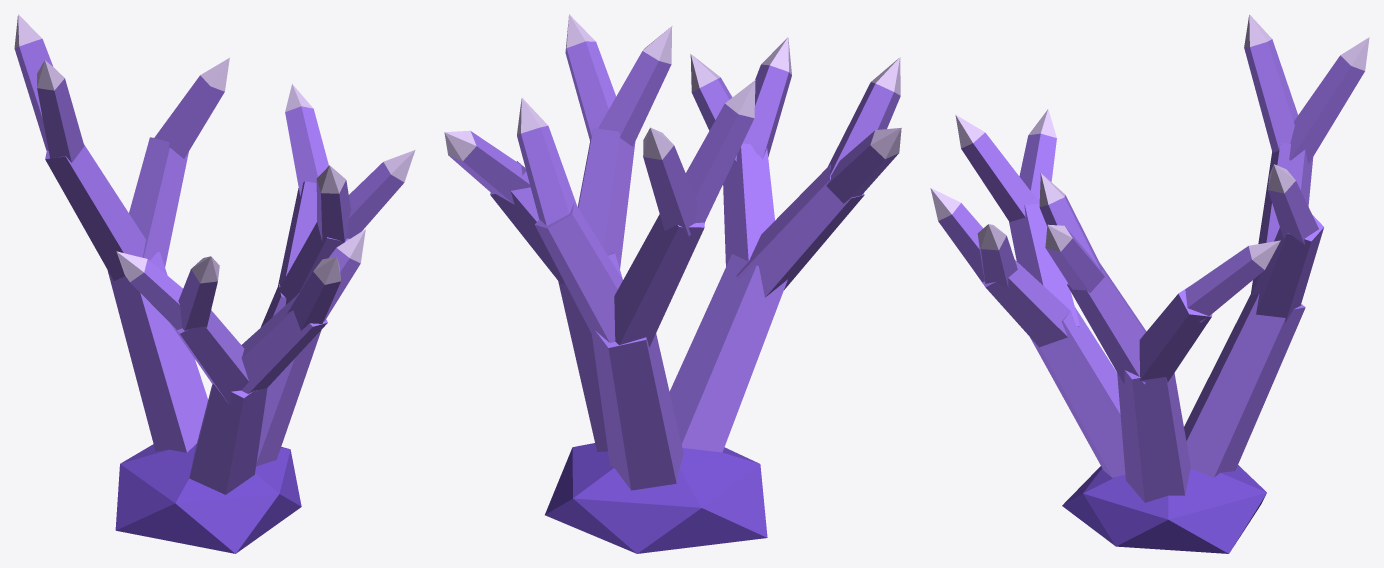
File: coral_branch_purple.fbx
3 renders of one model, left to right at view 1: azimuth 30°, elevation 25°; view 2: azimuth 150°, elevation 25°; view 3: azimuth 270°, elevation 25°, orthographic. The views are drawn at different scales.
Visible parts, largest first — view 1: coral_branch_purple; view 2: coral_branch_purple; view 3: coral_branch_purple.
Part boxes in pixels (x1,y1,x2,y2): coral_branch_purple: [14, 14, 415, 553]; coral_branch_purple: [444, 14, 901, 553]; coral_branch_purple: [930, 14, 1369, 553].
Bounding box in the file's own units: 407 × 609 × 520.
1 material, 1 textured.
